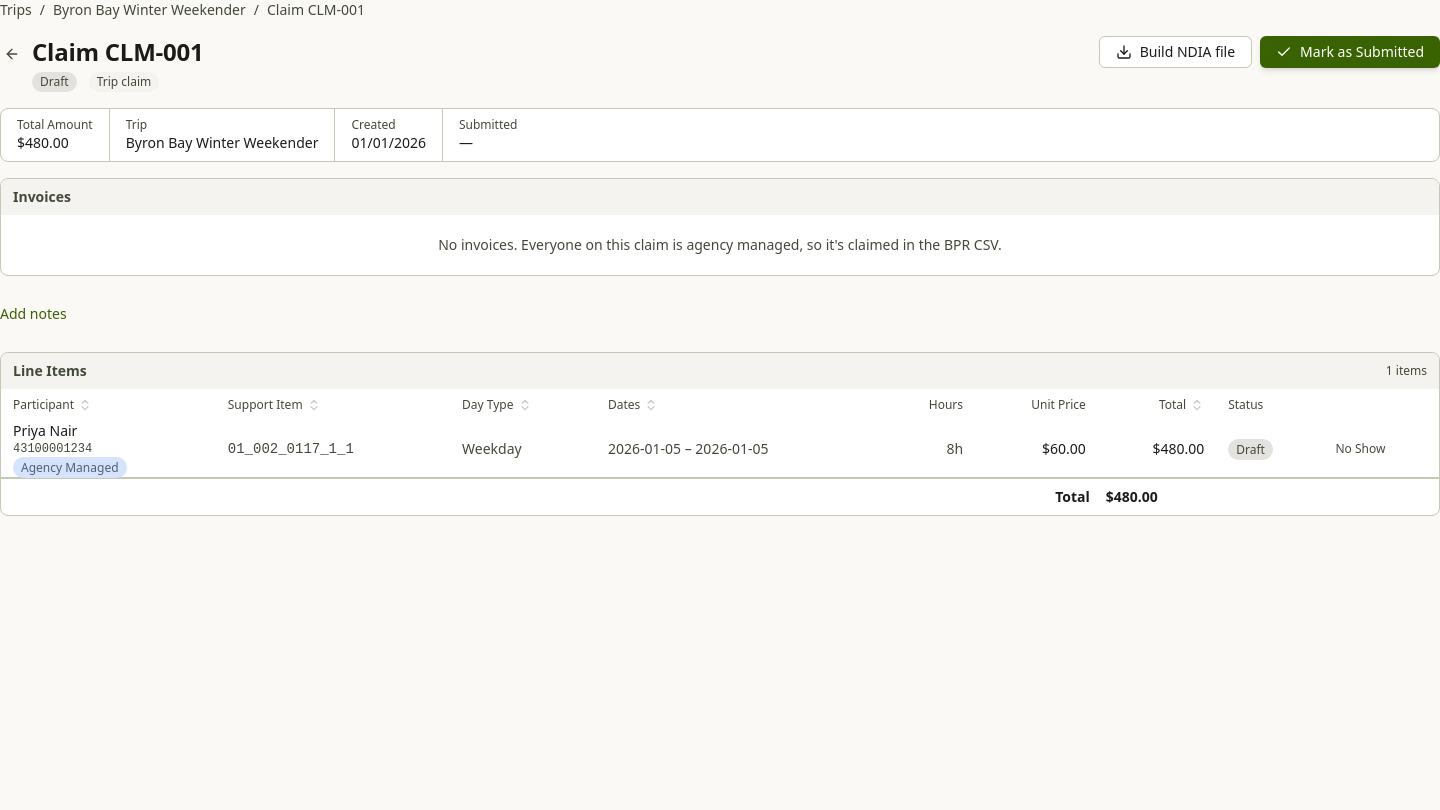
ClaimDetailPage — Invoices section (Xero PR1) › after a submit, announces the numbers issued and moves focus to the Invoices heading (the button that opened the dialog has gone)
Click the button "Mark as Submitted" at [1350, 52], box [1260,36,1439,68]
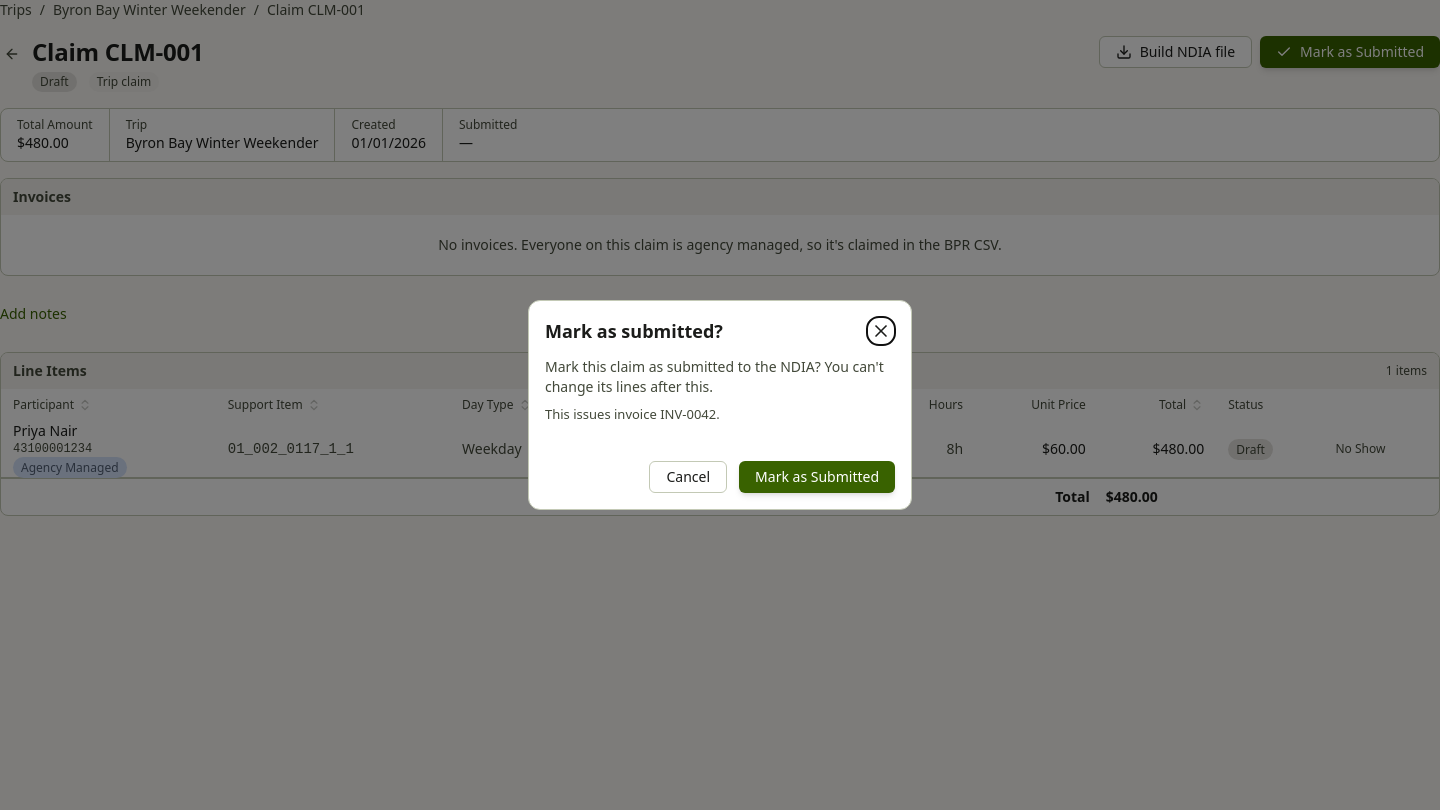
Click the button "Mark as Submitted" at [817, 477], box [739,461,895,493]
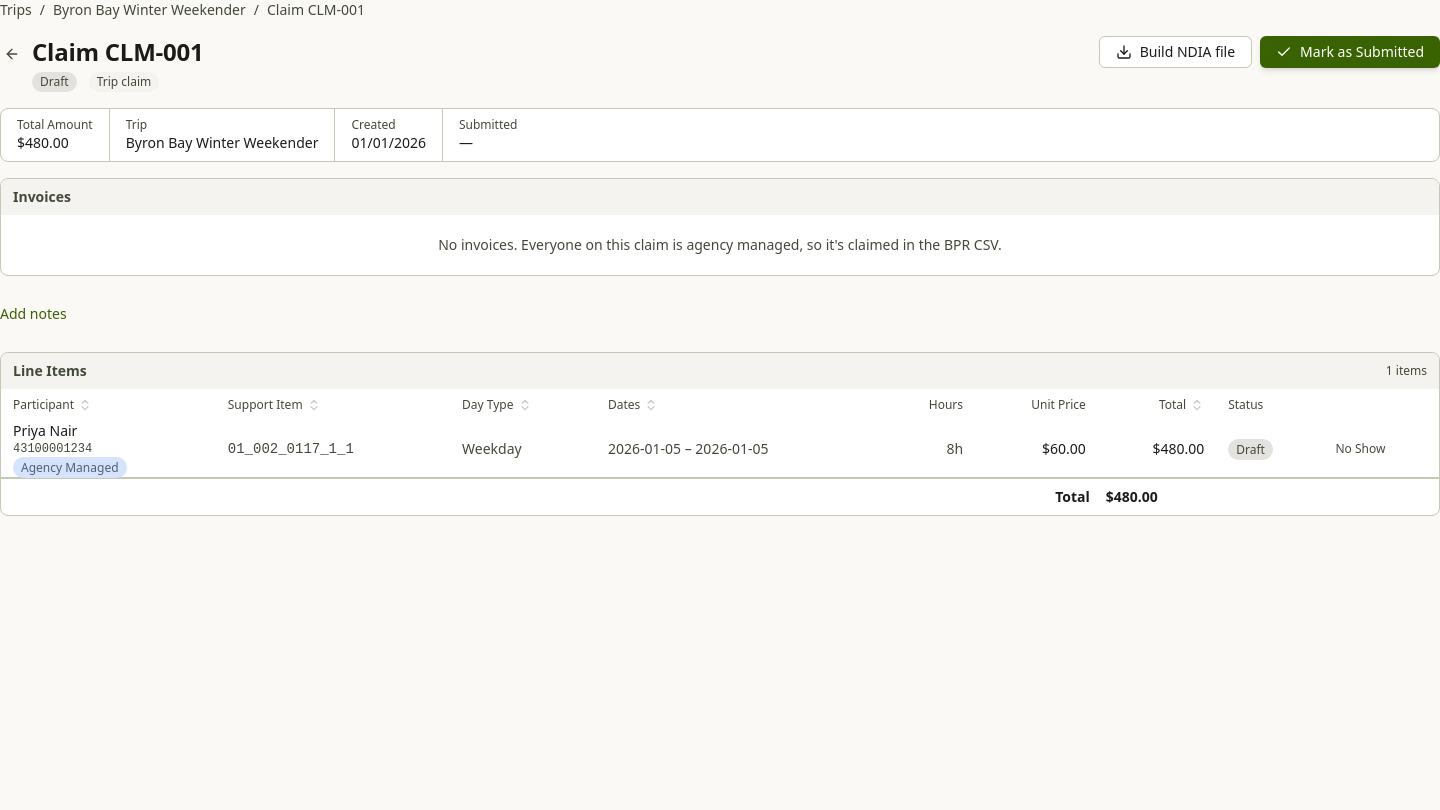
expect the dialog is gone: met
